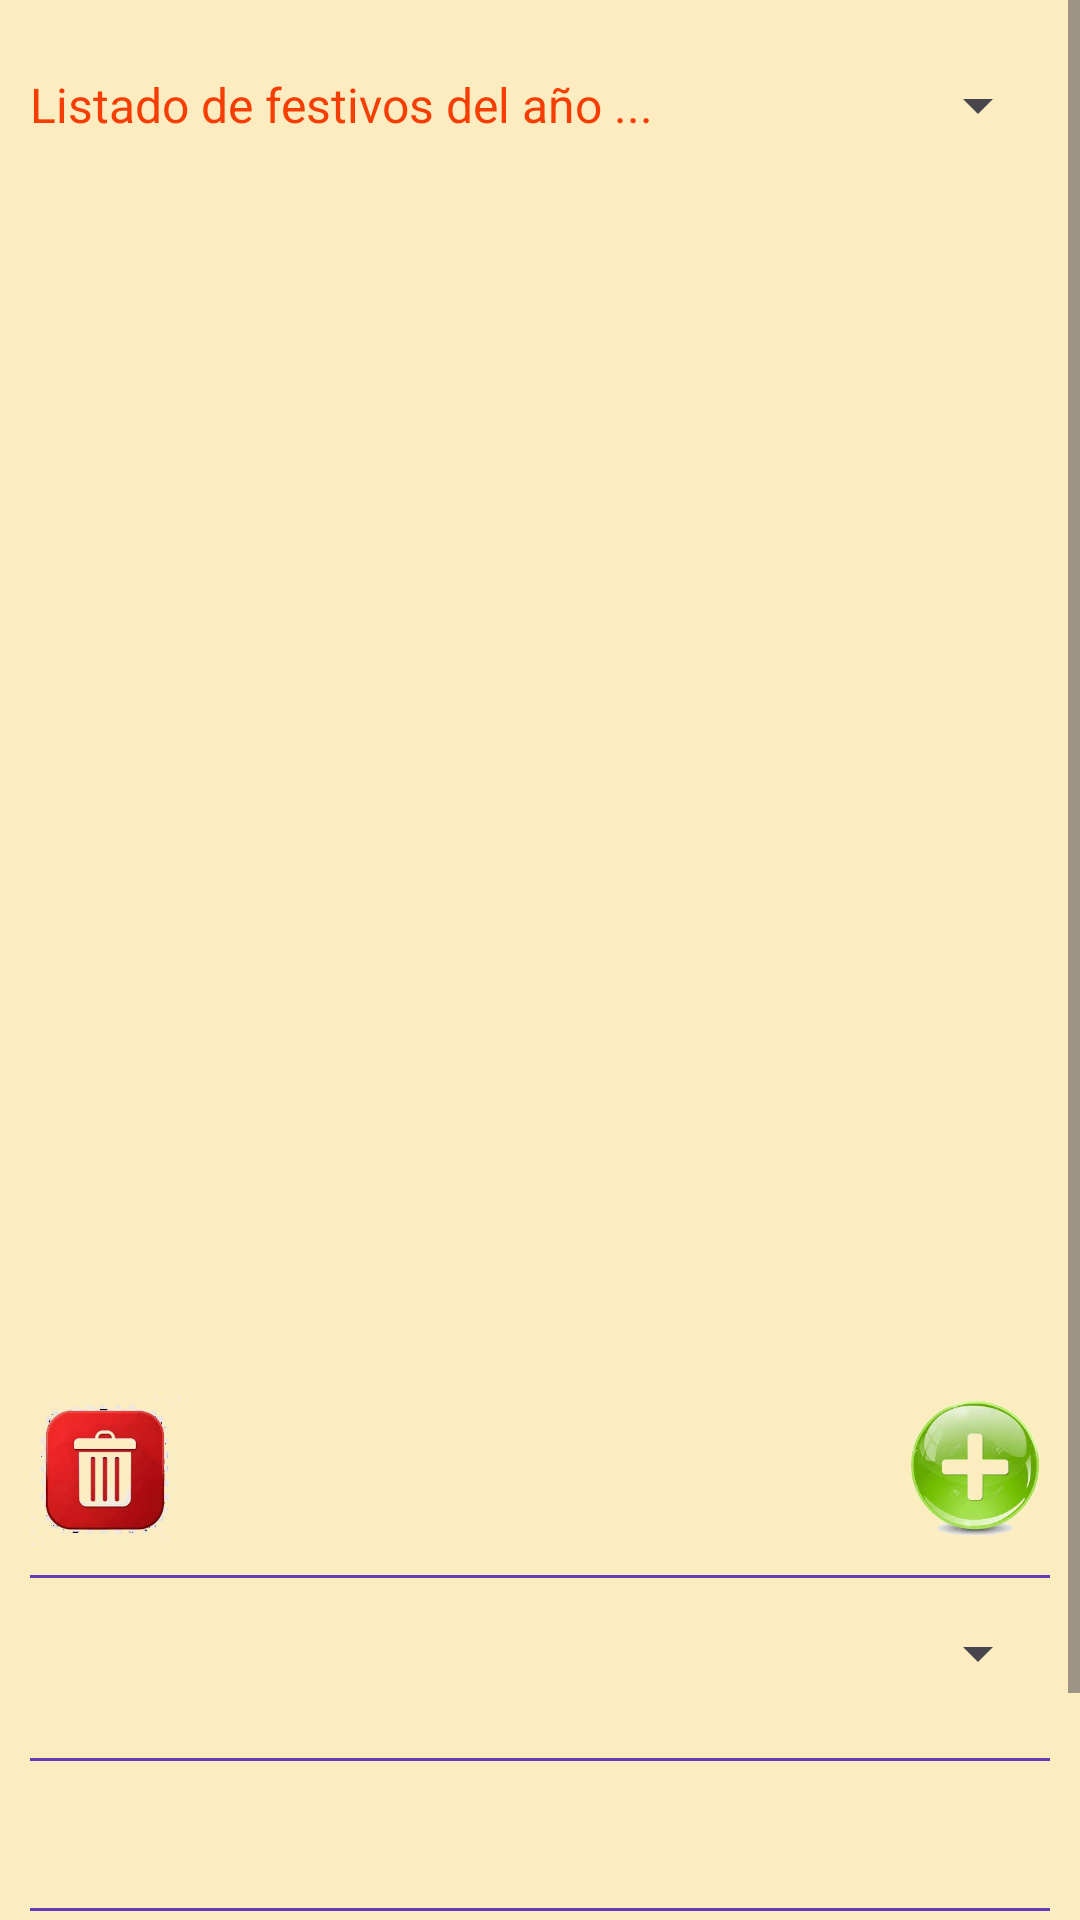

Where to tap for icons on this 1080w x 1920h app screen, as [x,y]:
mas: [975,1468]
papelera: [105,1470]
